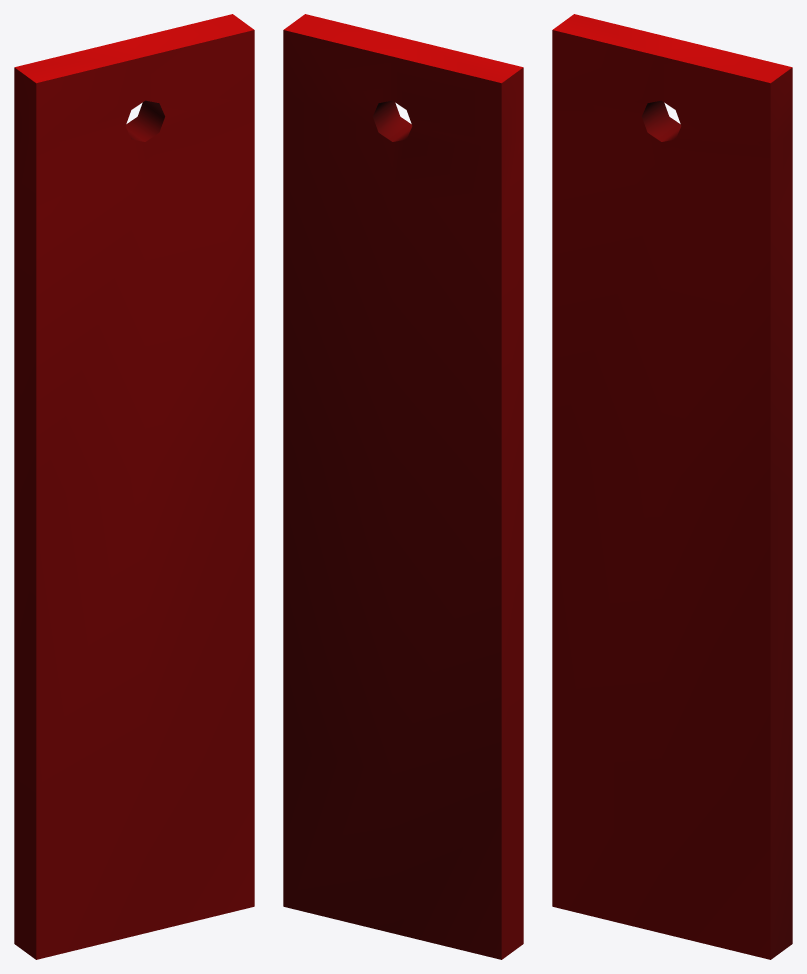
File: VerticalWall.glb
The picture shows the model from 3 angles, left to right: view 1: azimuth 30°, elevation 25°; view 2: azimuth 150°, elevation 25°; view 3: azimuth 330°, elevation 25°; orthographic projection.
Visible parts, largest first — view 1: VerticalWall; view 2: VerticalWall; view 3: VerticalWall.
Part boxes in pixels (left/top/right/bottom): VerticalWall: left=14, top=14, right=254, bottom=959; VerticalWall: left=283, top=14, right=523, bottom=959; VerticalWall: left=552, top=14, right=792, bottom=959.
Size of the model in its own units: 9.59 by 36.8 by 1.66.
